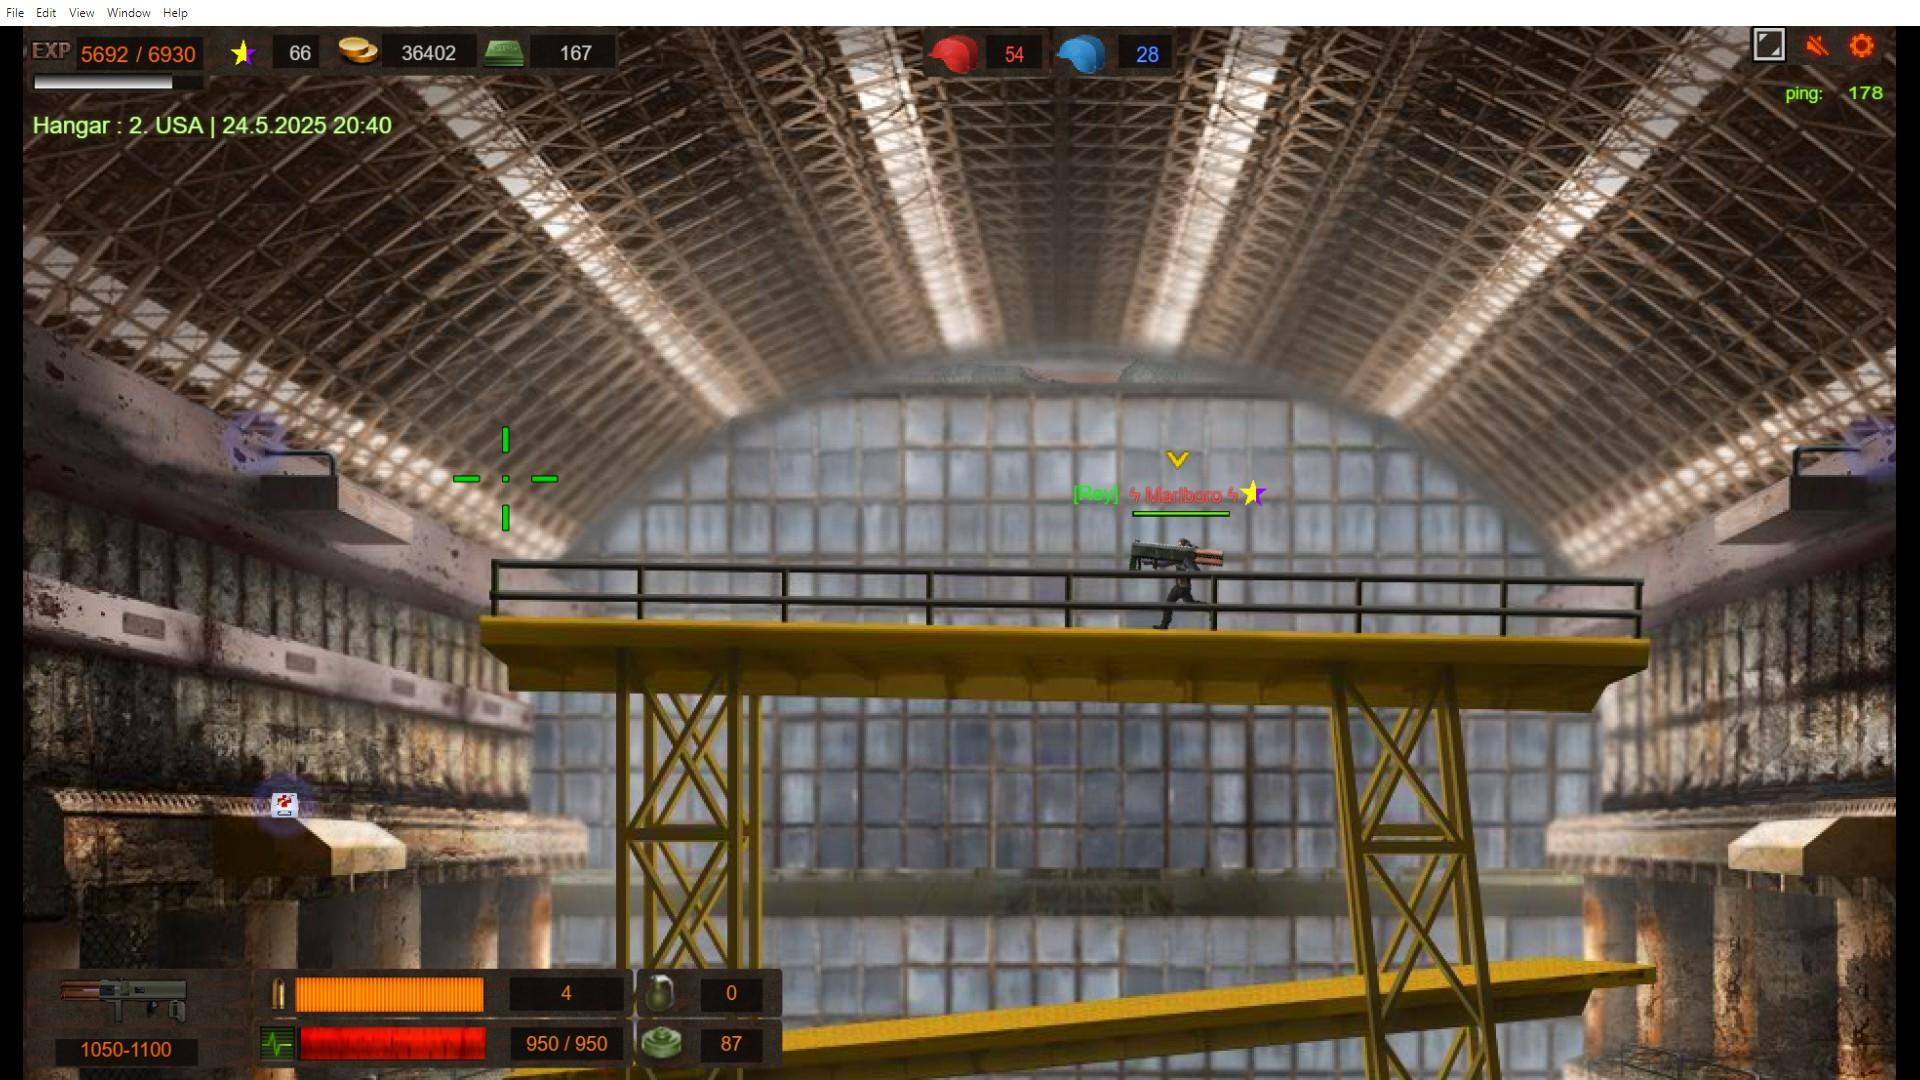enemy: (1172, 542, 1195, 632)
